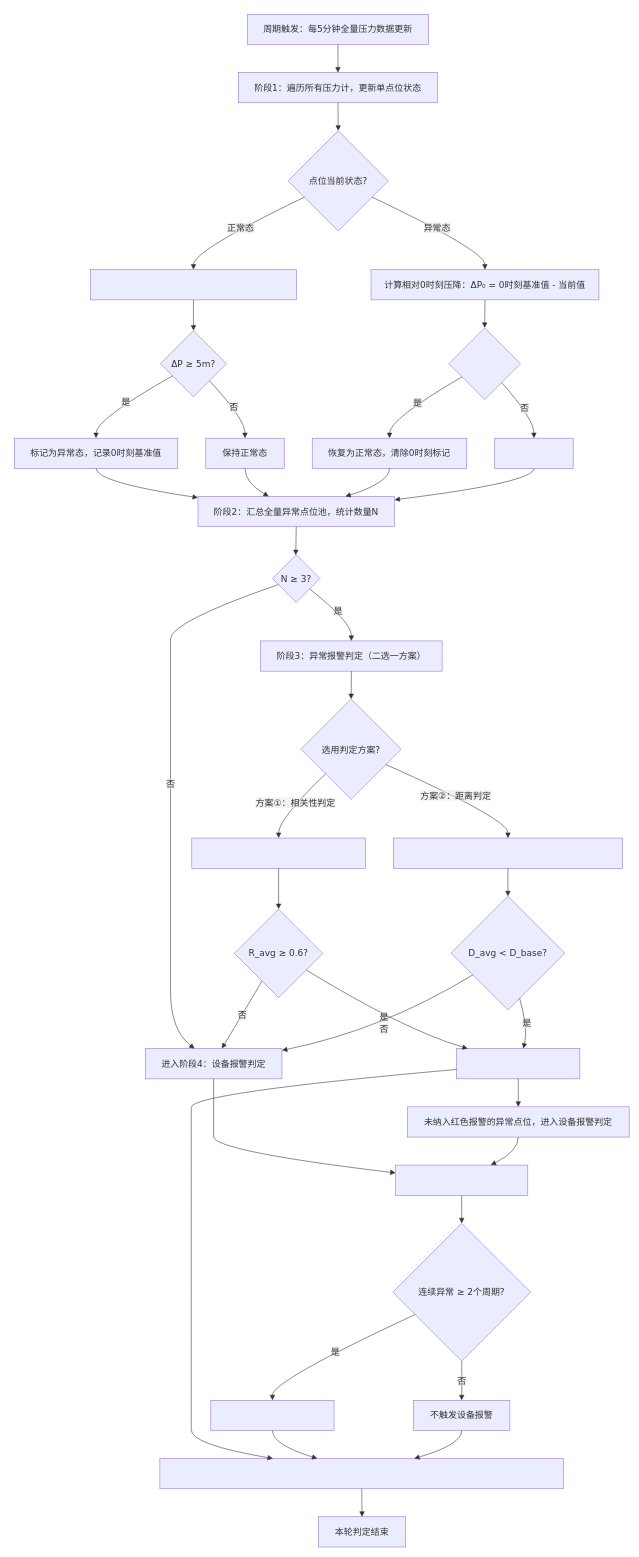
The diagram is 639 pixels wide and 1557 high, and some of its shapes have lost their labels. Here are the shapes that lost their labels. From the top down, the centre of each, then its label:
At point 193,284: "计算本周期压降：ΔP = 上一周期值 - 当前值".
At point 484,363: "ΔP₀ < 4m?".
At point 533,453: "保持异常态".
At point 278,852: "计算异常点位两两平均相关度R_avg".
At point 507,852: "计算异常簇平均距离D_avg，对比全网基准D_base".
At point 518,1063: "触发异常报警（红色）".
At point 461,1180: "逐点统计连续异常周期数".
At point 272,1415: "触发设备报警（黄色）".
At point 361,1473: "阶段5：可视化更新 仅新事件起始时刻生成时间轴气泡 持续事件不新增气泡，地图保持闪烁".
